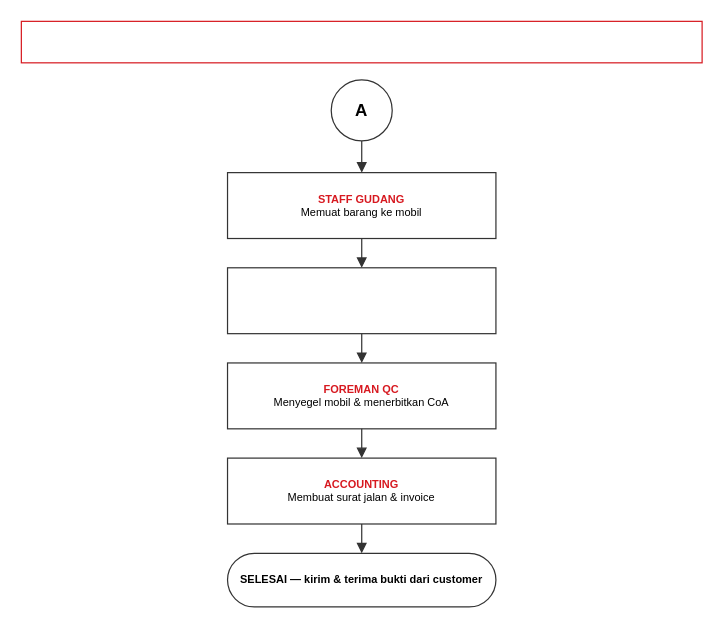
Image size: 723x628. Some labels were removed from this diagram. Each missing label, with the box of its shape:
FOREMAN GUDANG Mengisi tally sheet (AKSI-FRM-GUD-06): (226, 267, 496, 334)
SOP-AKSI-WH-05 PRODUK JADI — BAGIAN 2/2 (PEMUATAN & PENGIRIMAN): (20, 20, 702, 63)
